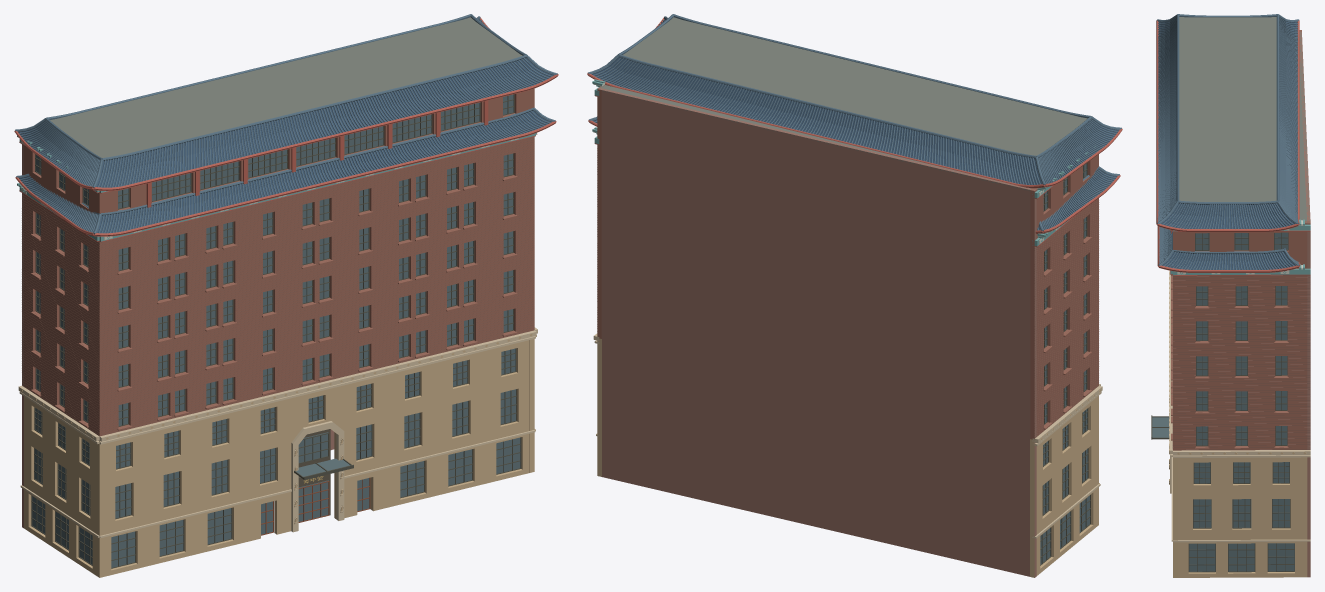
File: huangpu-baxianqiao-ymca-web.glb
3 views of the same model, side by side, from view 1: azimuth 30°, elevation 25°; view 2: azimuth 150°, elevation 25°; view 3: azimuth 270°, elevation 25° (orthographic). The views are drawn at different scales.
Parts seen in each view (by area): view 1: 八仙桥基督教青年会大楼（西藏南路双檐临街翼）; view 2: 八仙桥基督教青年会大楼（西藏南路双檐临街翼）; view 3: 八仙桥基督教青年会大楼（西藏南路双檐临街翼）.
Boxes of the visible parts, box(x1,y1,x2,y2) form: 八仙桥基督教青年会大楼（西藏南路双檐临街翼）: box(14, 14, 558, 577); 八仙桥基督教青年会大楼（西藏南路双檐临街翼）: box(587, 14, 1122, 577); 八仙桥基督教青年会大楼（西藏南路双檐临街翼）: box(1151, 14, 1310, 577).
Bounding box in the file's own units: 39.51 × 33.71 × 12.99.
